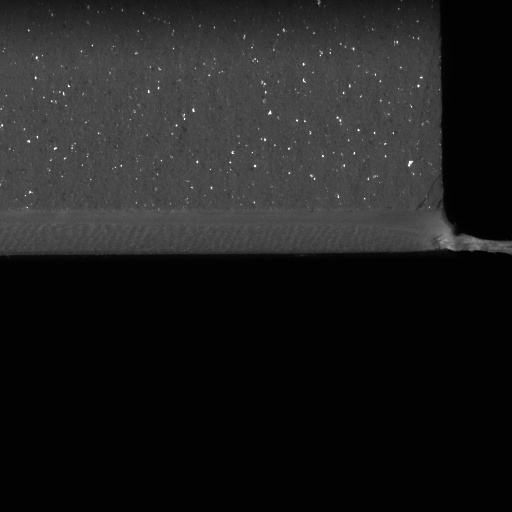changdai: (430, 211, 511, 259)
